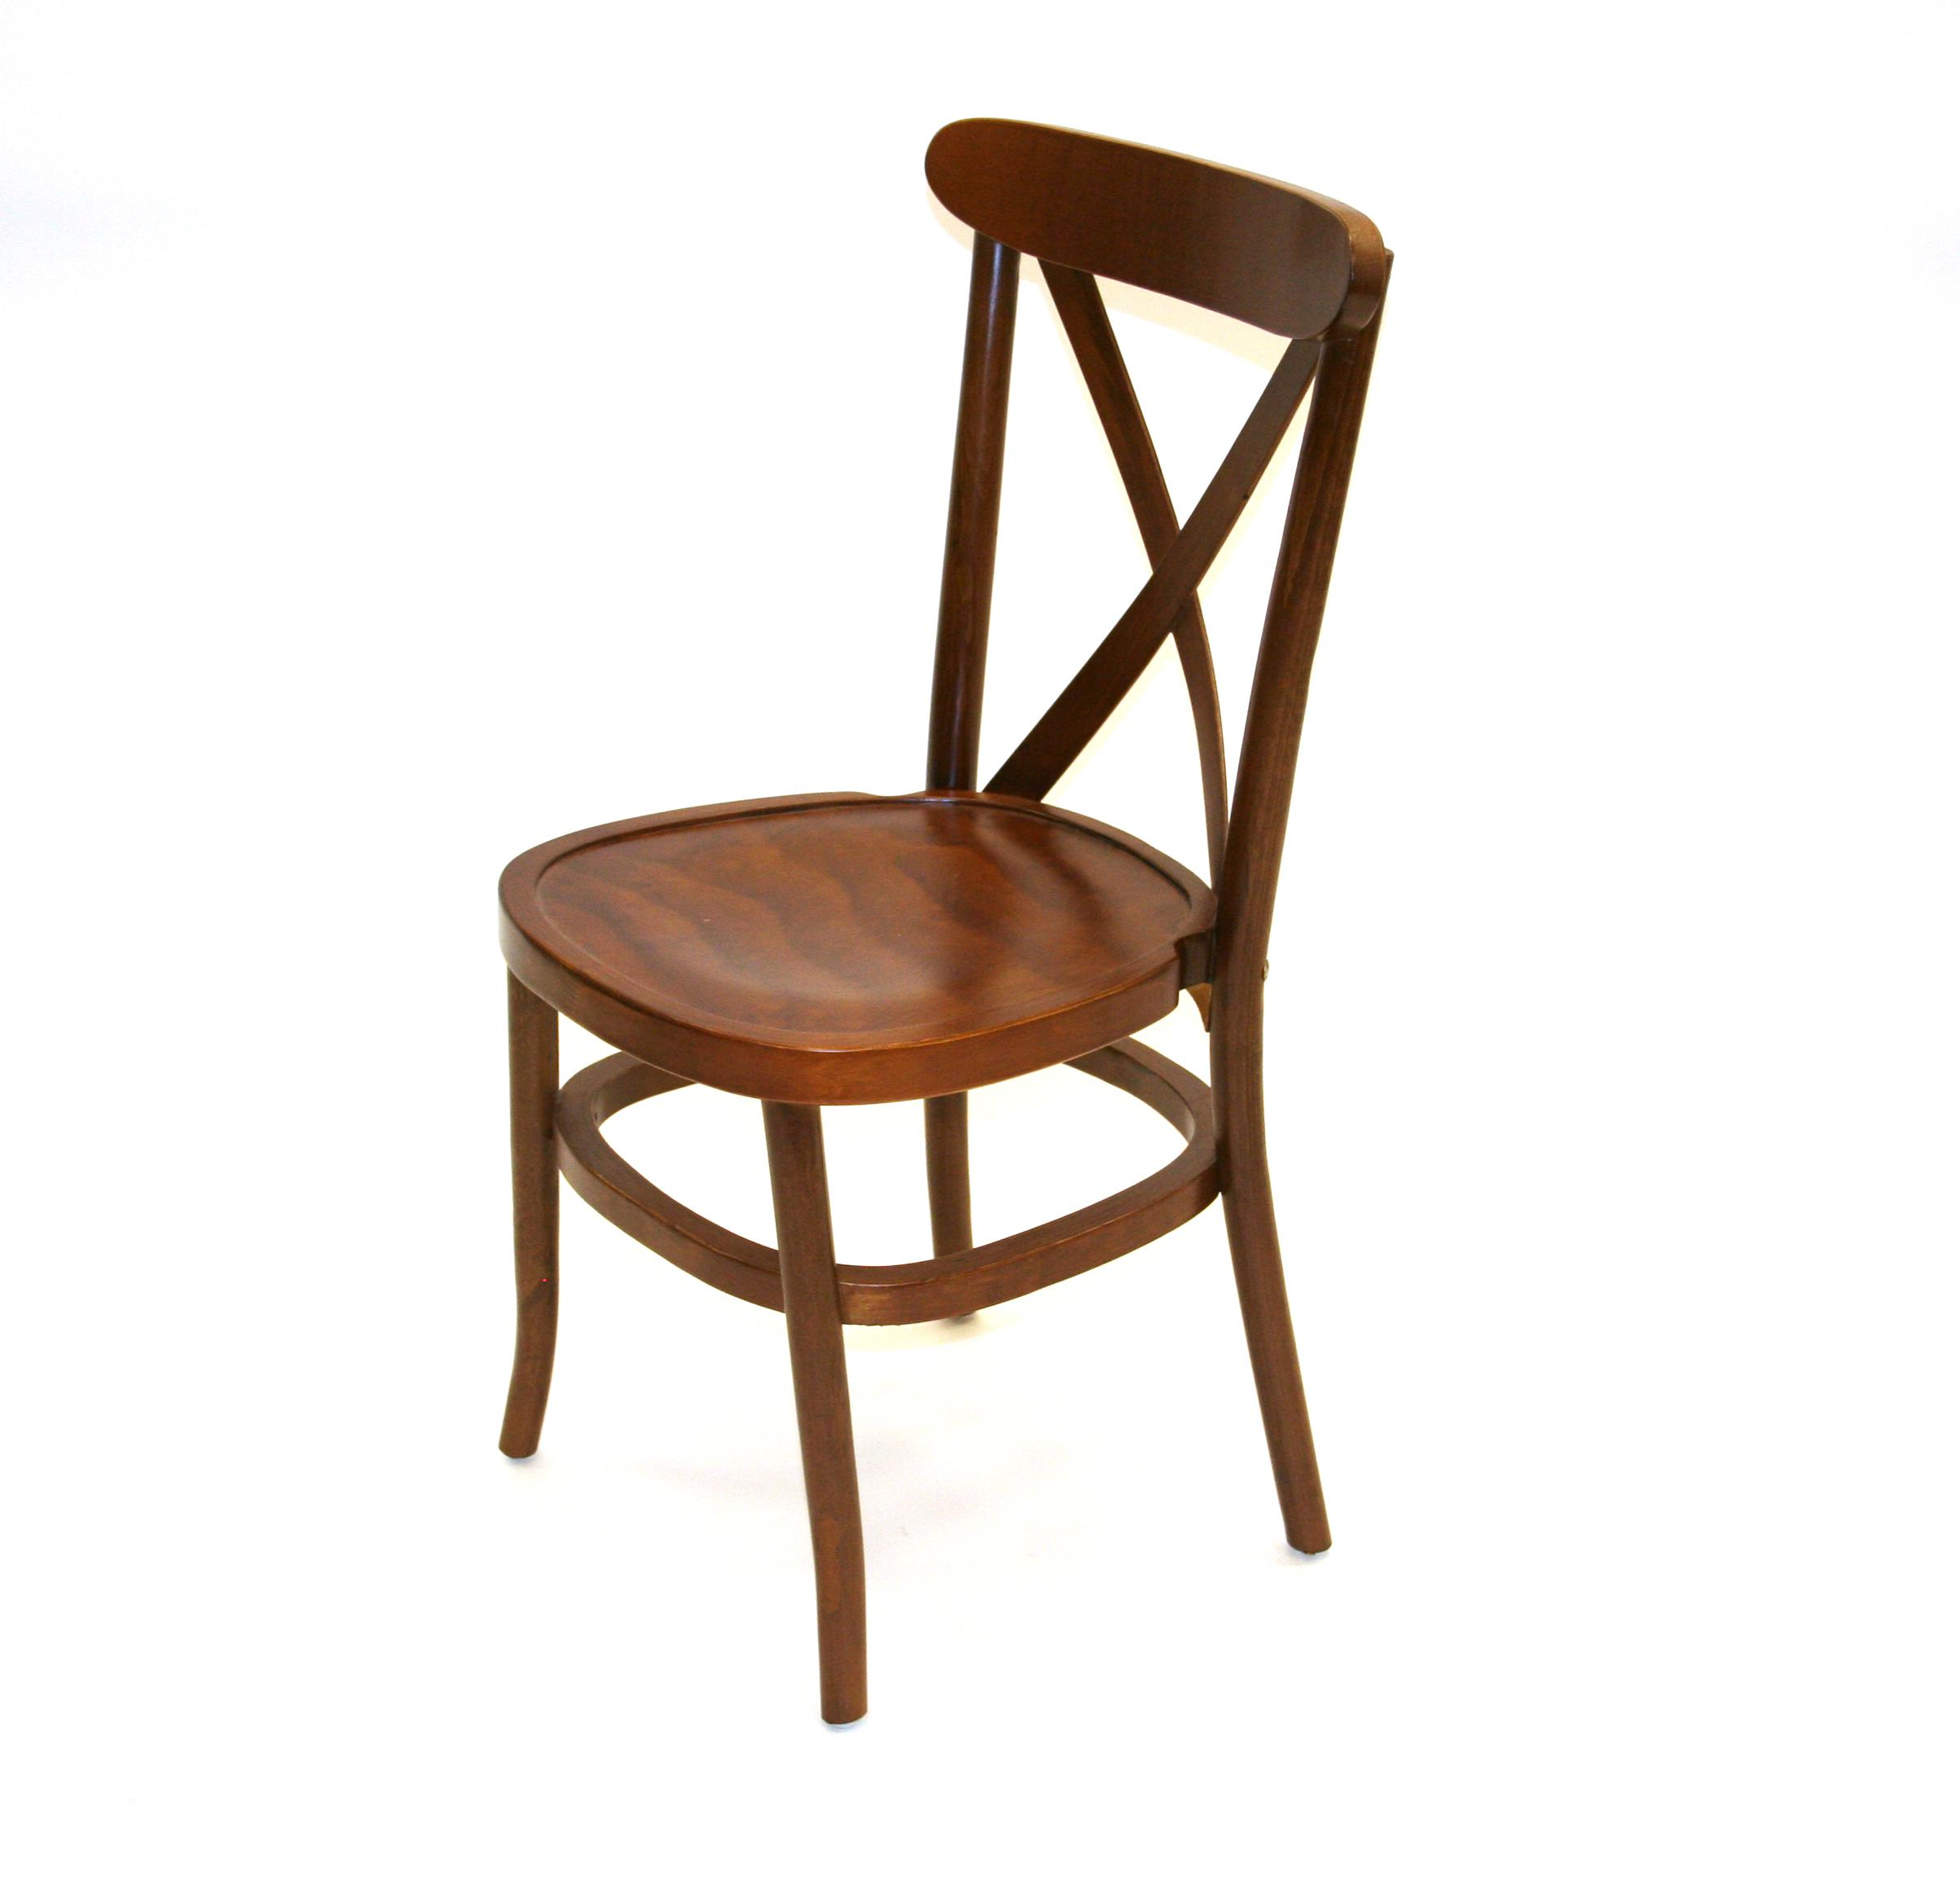chair: (385, 91, 1456, 1758)
